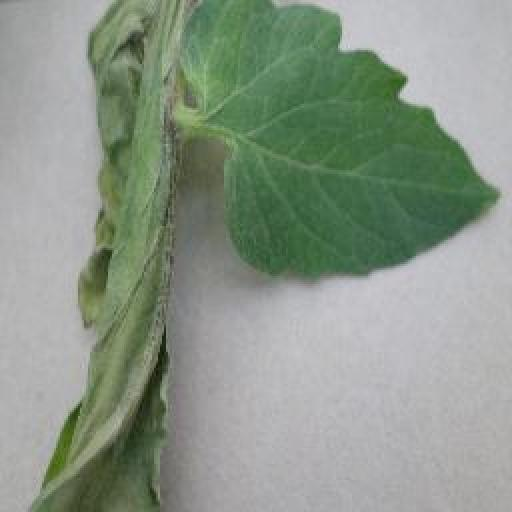disease_tomato: (26, 0, 174, 512)
